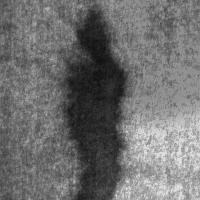patches: (83, 0, 200, 122), (60, 56, 125, 200), (106, 0, 200, 90), (77, 4, 114, 93)
